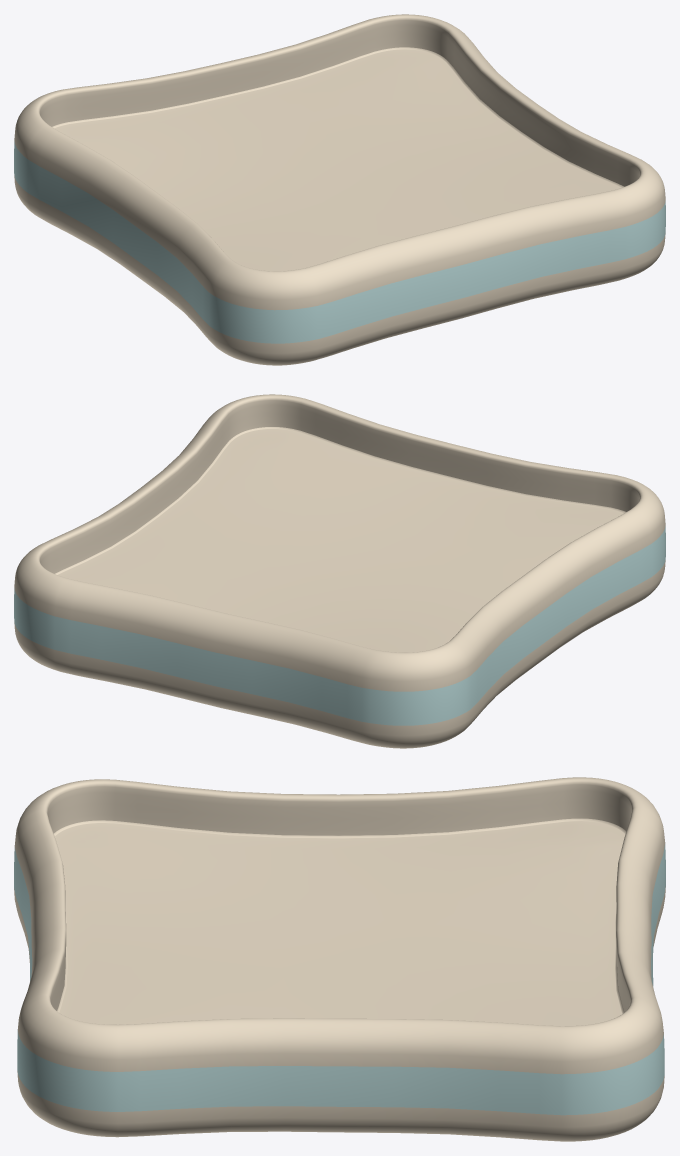
File: SM_Building_06_Part_05.fbx
3 renders of one model, top to bottom at view 1: azimuth 30°, elevation 25°; view 2: azimuth 150°, elevation 25°; view 3: azimuth 270°, elevation 25°, orthographic. The views are drawn at different scales.
Parts seen in each view (by area): view 1: SM_Building_06_Part_05; view 2: SM_Building_06_Part_05; view 3: SM_Building_06_Part_05.
Boxes of the visible parts, left/top/right/bottom form: SM_Building_06_Part_05: left=14, top=14, right=665, bottom=365; SM_Building_06_Part_05: left=14, top=394, right=665, bottom=748; SM_Building_06_Part_05: left=14, top=777, right=665, bottom=1141.
Bounding box in the file's own units: 5966 × 1275 × 6120.
